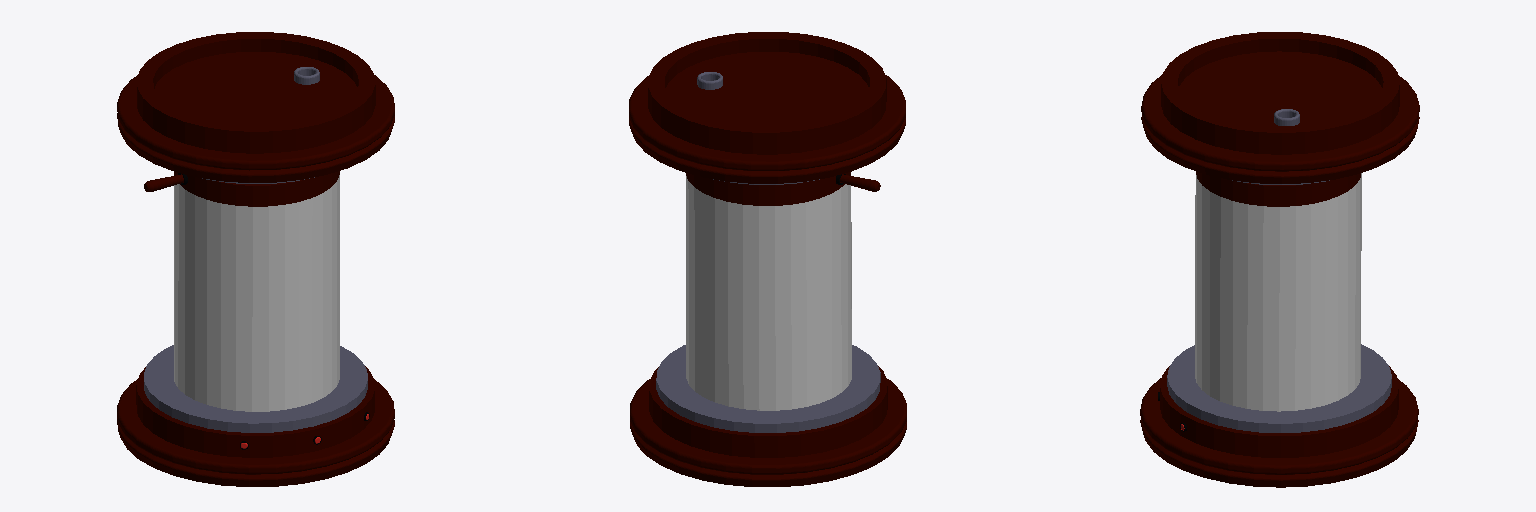
The model's file is cafetera_01.obj.
3 renders of one model, left to right at view 1: azimuth 30°, elevation 25°; view 2: azimuth 150°, elevation 25°; view 3: azimuth 270°, elevation 25°, orthographic.
Visible parts, largest first — view 1: cafetera_01; view 2: cafetera_01; view 3: cafetera_01.
Boxes of the visible parts, box(x1,y1,x2,y2) form: cafetera_01: box(117, 32, 394, 486); cafetera_01: box(629, 32, 906, 486); cafetera_01: box(1140, 32, 1419, 487).
Size of the model in its own units: 0.0888 by 0.1223 by 0.0889.